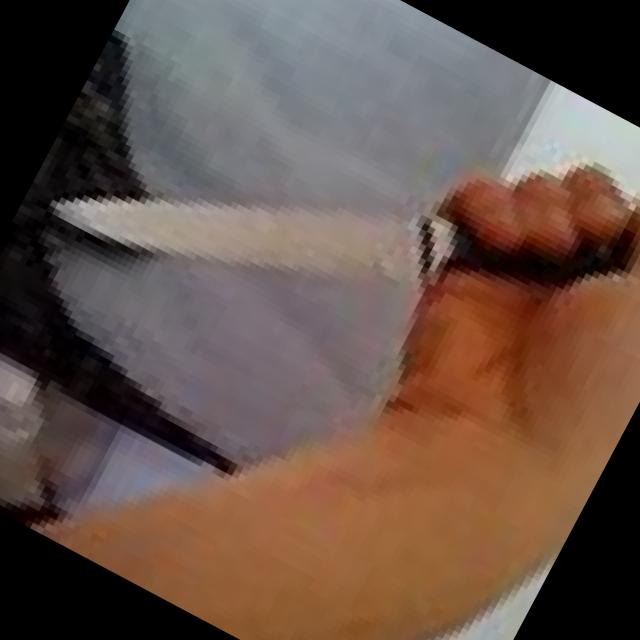knife: (31, 46, 625, 490)
